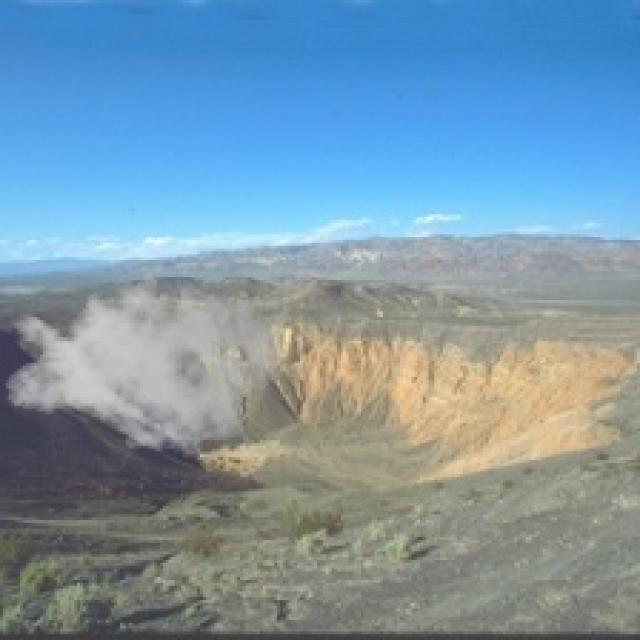Smoke: (3, 263, 286, 463)
